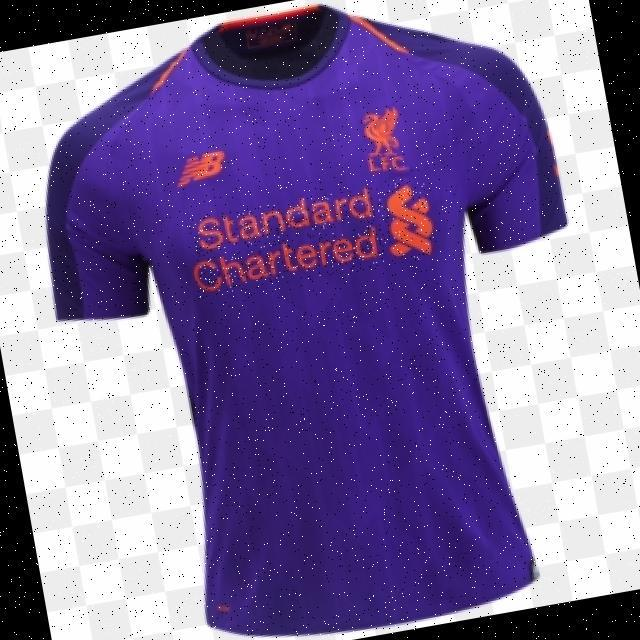Standard Chartered: (186, 177, 437, 298)
